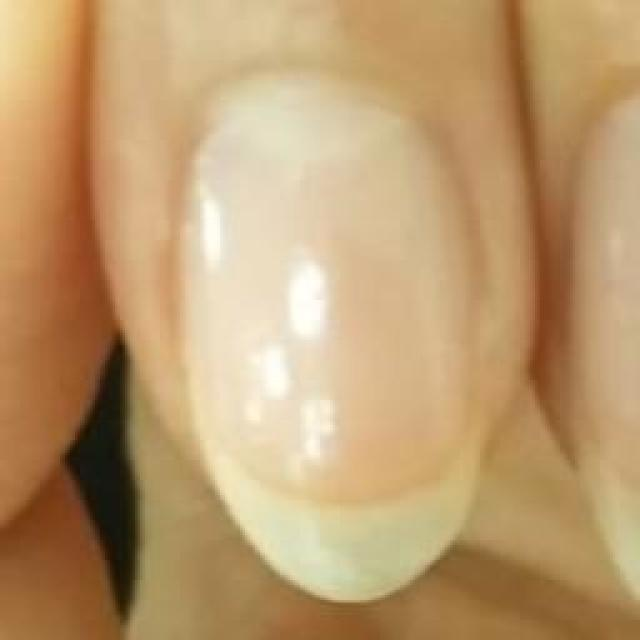Nail: (173, 97, 489, 602)
